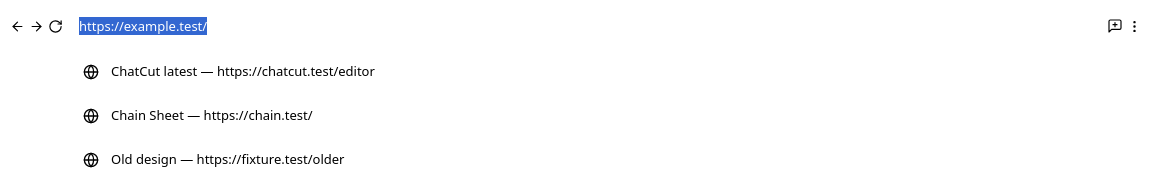
browser address suggestions › keeps the native page behind a presentation snapshot while suggestions are open and restores it on Escape
Replace the text in the dropdown with test id "workspace-browser-address" with "unfinished" at x=577, y=26, box [67, 10, 1087, 42]
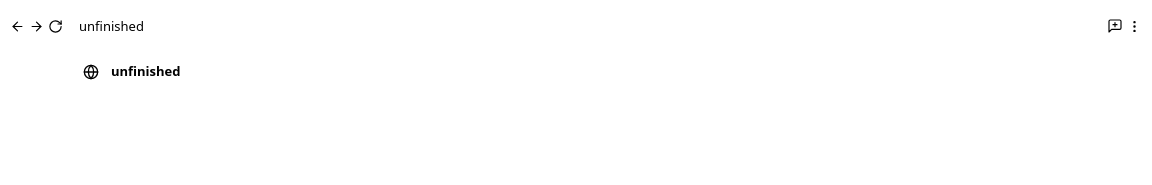
Press Escape in the dropdown with test id "workspace-browser-address", box [67, 10, 1087, 42]
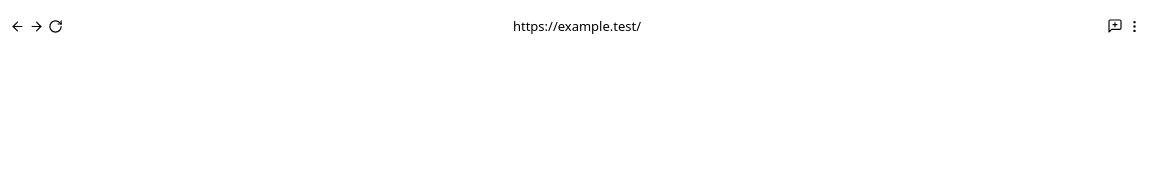
expect the dropdown with test id "workspace-browser-address" holds "https://example.test/": met, box [67, 10, 1087, 42]
expect the list is gone: met
